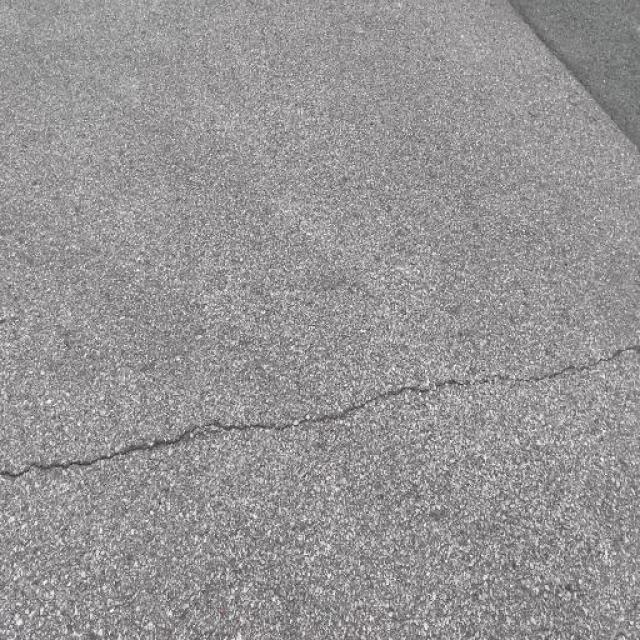Retak-Melintang: (3, 337, 639, 484)
